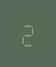two: (19, 19, 34, 47)
